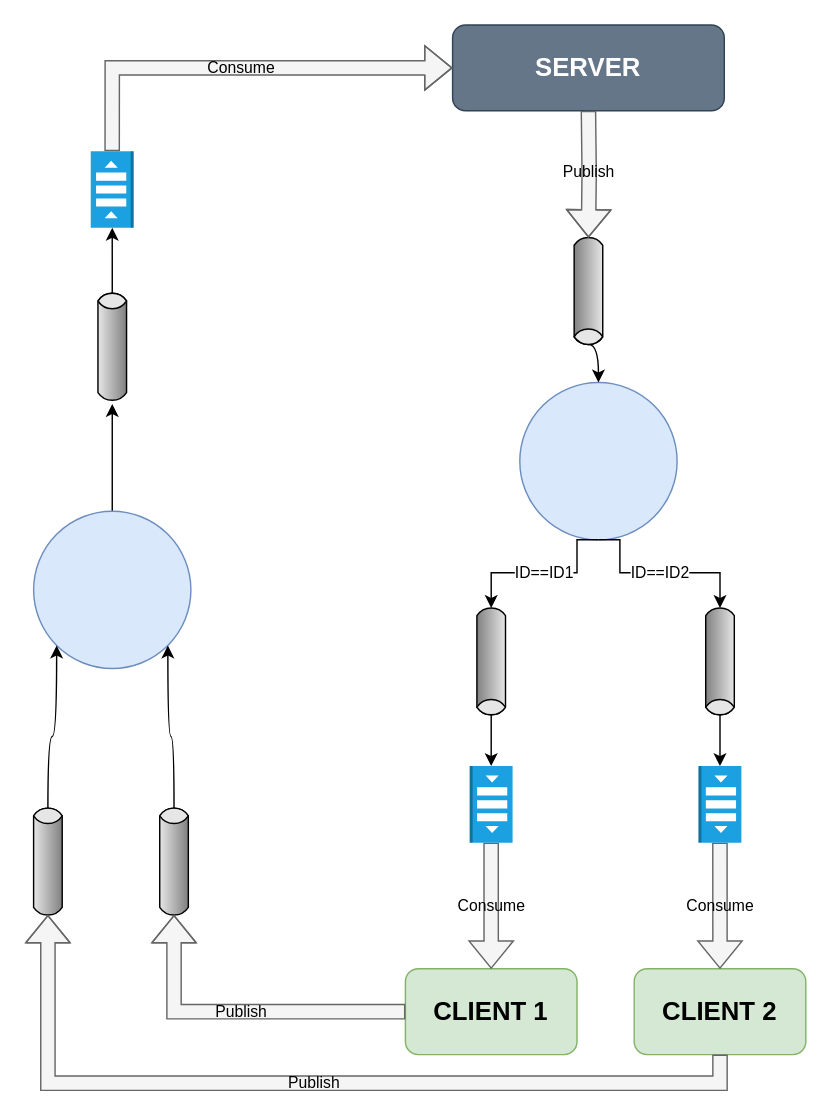
Some shapes in this 831 by 1117 pixel diagram are drawn without their labels. Each missing label, with the centre of its shape:
"SERVER EXCHANGE" goes at point 597,460.
"USER EXCHANGE" goes at point 111,589.
